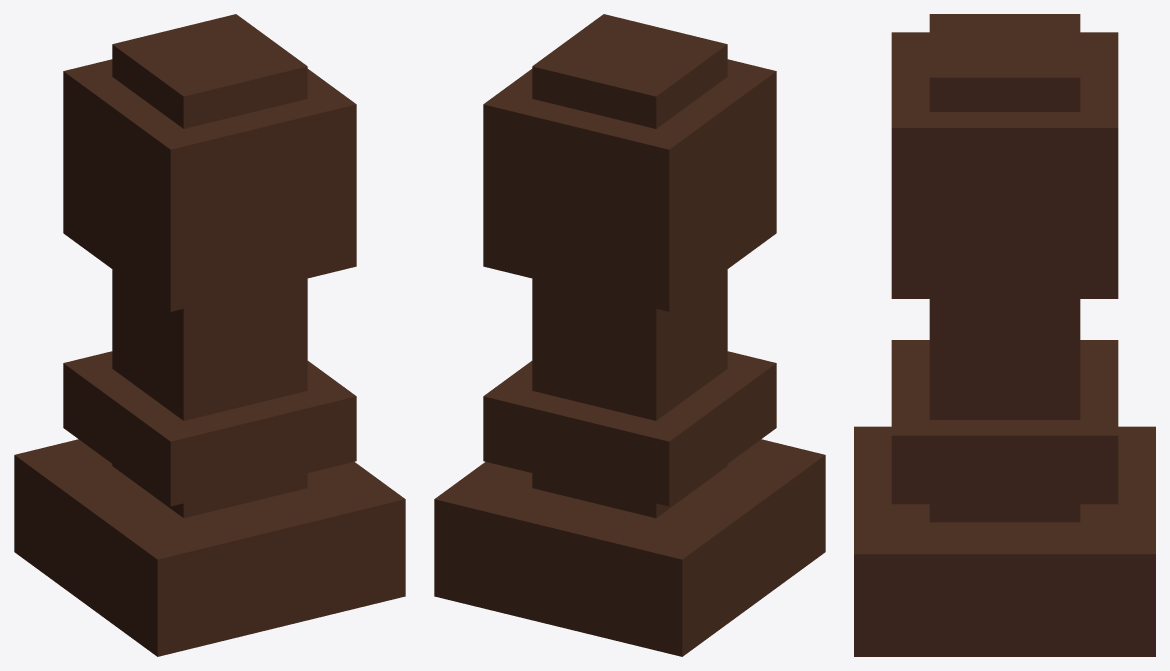
Rendered from token-v2-brown.gltf.
3 renders of one model, left to right at view 1: azimuth 30°, elevation 25°; view 2: azimuth 150°, elevation 25°; view 3: azimuth 270°, elevation 25°, orthographic. The views are drawn at different scales.
Parts seen in each view (by area): view 1: Untitled; view 2: Untitled; view 3: Untitled.
Part boxes in pixels (x1,y1,x2,y2): Untitled: (14, 14, 405, 656); Untitled: (434, 14, 825, 656); Untitled: (854, 14, 1155, 656).
Bounding box in the file's own units: 0.8 × 1.6 × 0.8.
Materials: 1 (1 with a texture image).
